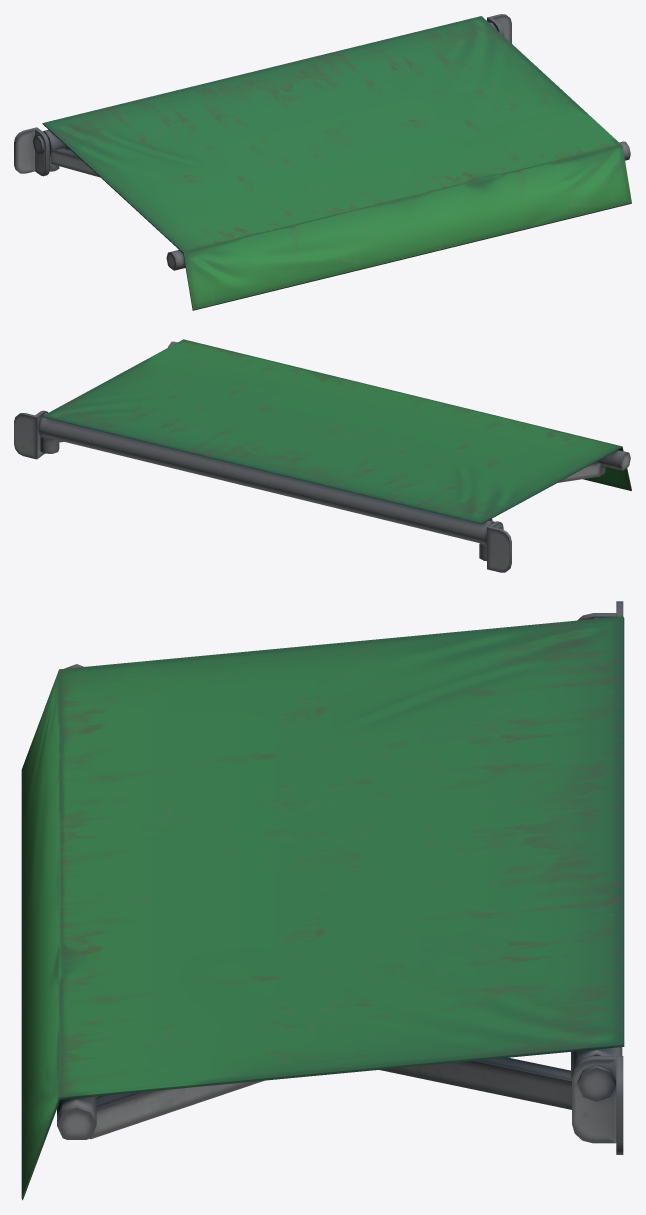
Rendered from Etractable_Awning.fbx.
3 renders of one model, top to bottom at view 1: azimuth 30°, elevation 25°; view 2: azimuth 150°, elevation 25°; view 3: azimuth 270°, elevation 25°, orthographic. The views are drawn at different scales.
Parts seen in each view (by area): view 1: Etractable_Awning; view 2: Etractable_Awning; view 3: Etractable_Awning.
Part boxes in pixels (left/top/right/bottom): Etractable_Awning: left=14, top=14, right=631, bottom=310; Etractable_Awning: left=14, top=339, right=631, bottom=572; Etractable_Awning: left=21, top=601, right=624, bottom=1200.
Bounding box in the file's own units: 374 × 56.18 × 197.
